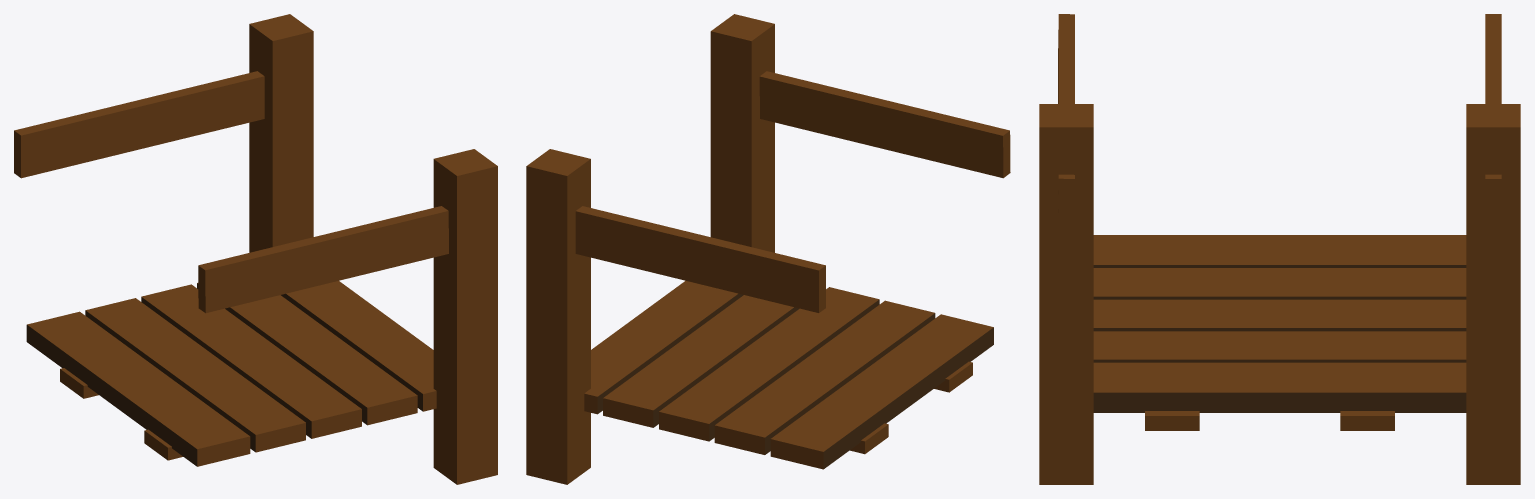
File: Bridge_MiddleUV.fbx
3 views of the same model, side by side, from view 1: azimuth 30°, elevation 25°; view 2: azimuth 150°, elevation 25°; view 3: azimuth 270°, elevation 25° (orthographic). The views are drawn at different scales.
Parts seen in each view (by area): view 1: Cube; view 2: Cube; view 3: Cube.
Part boxes in pixels (x1,y1,x2,y2): Cube: [14, 14, 497, 484]; Cube: [526, 14, 1010, 484]; Cube: [1039, 14, 1520, 484].
Bounding box in the file's own units: 179 × 181 × 221.
